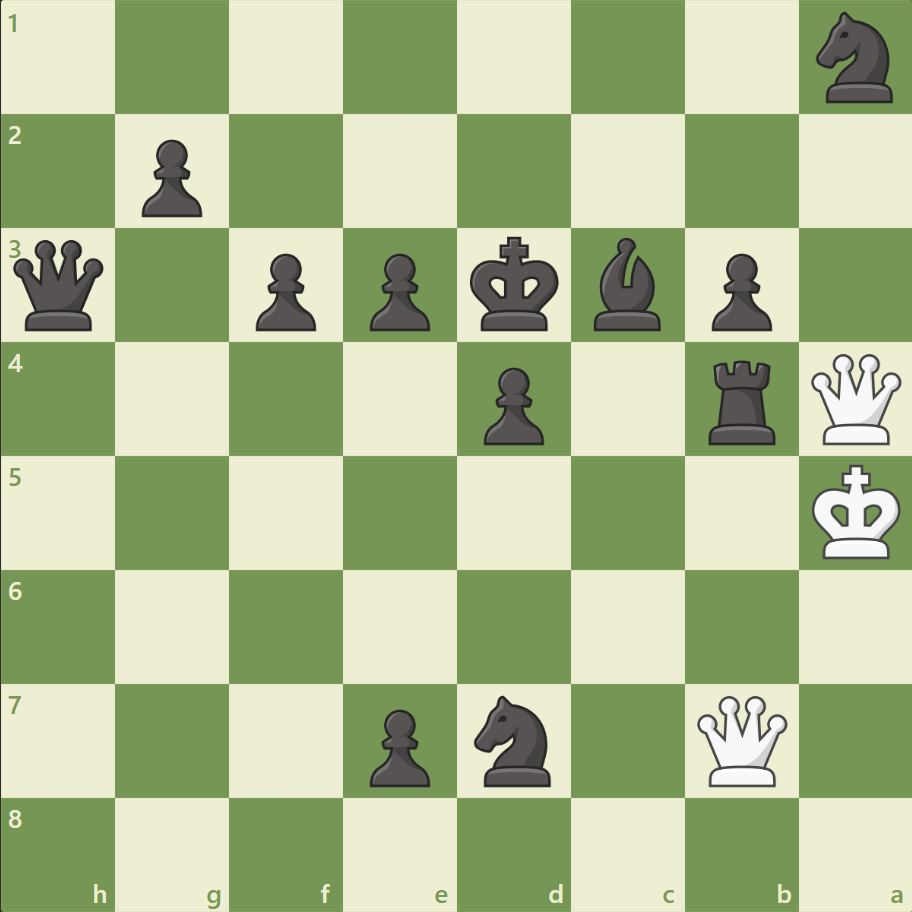K: (806, 458, 906, 566)
Q: (805, 349, 904, 449), (691, 690, 790, 789)
b: (585, 233, 669, 336)
k: (465, 231, 565, 339)
n: (465, 688, 562, 791), (806, 7, 903, 110)
p: (474, 359, 549, 450), (701, 246, 776, 337), (247, 246, 322, 337), (133, 132, 208, 223), (361, 700, 435, 791), (361, 246, 435, 337)
q: (10, 236, 109, 335)
r: (700, 352, 783, 449)
